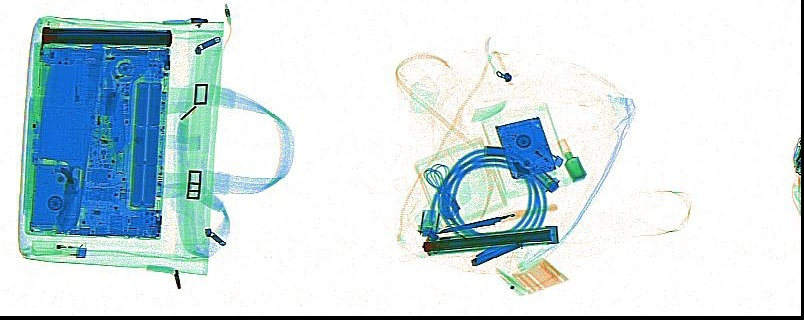knife: (35, 46, 105, 234), (432, 203, 558, 234), (55, 163, 82, 231), (470, 232, 520, 266), (108, 90, 126, 155)
lighter: (29, 239, 87, 258), (528, 139, 564, 168), (39, 18, 61, 60)
nailpolish: (556, 137, 587, 182)
